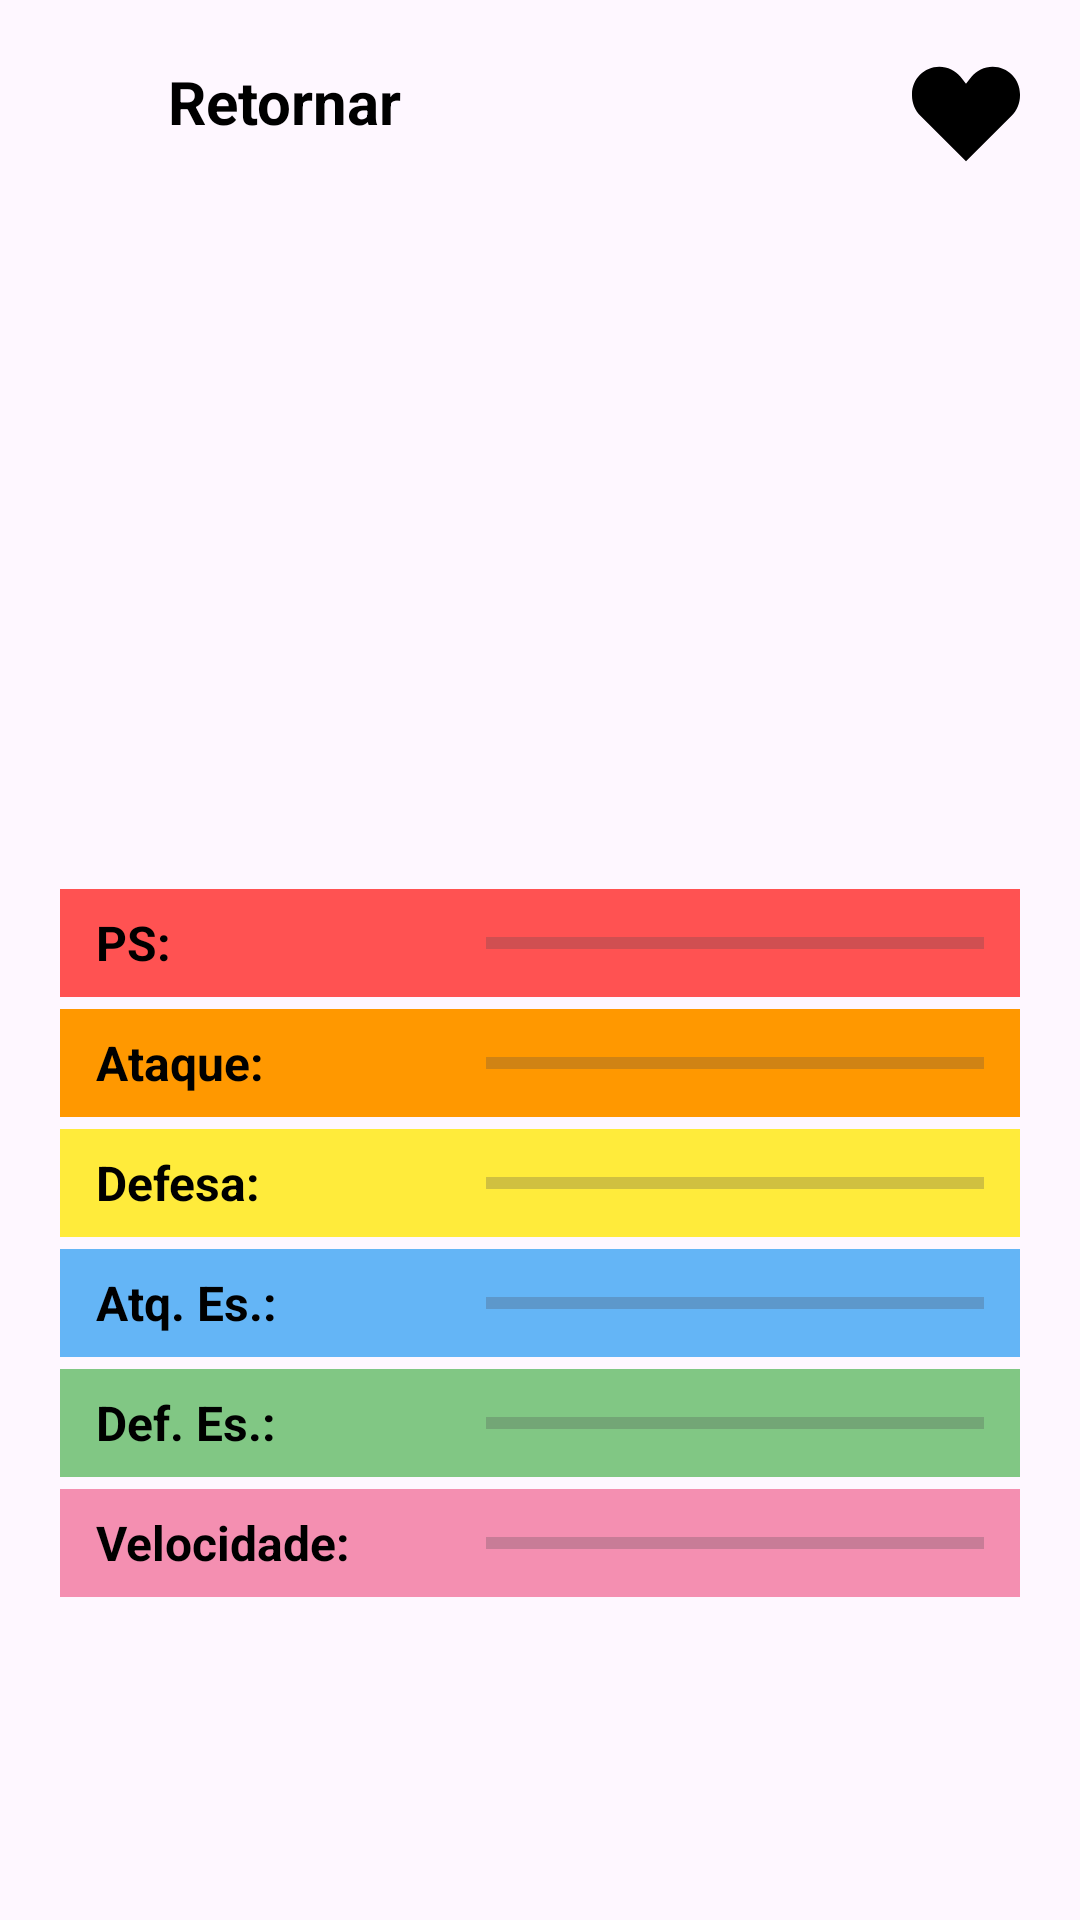

Icon click points for this 1080px x 1920px phone screenshot, format [x,y]:
heart: [966,113]
